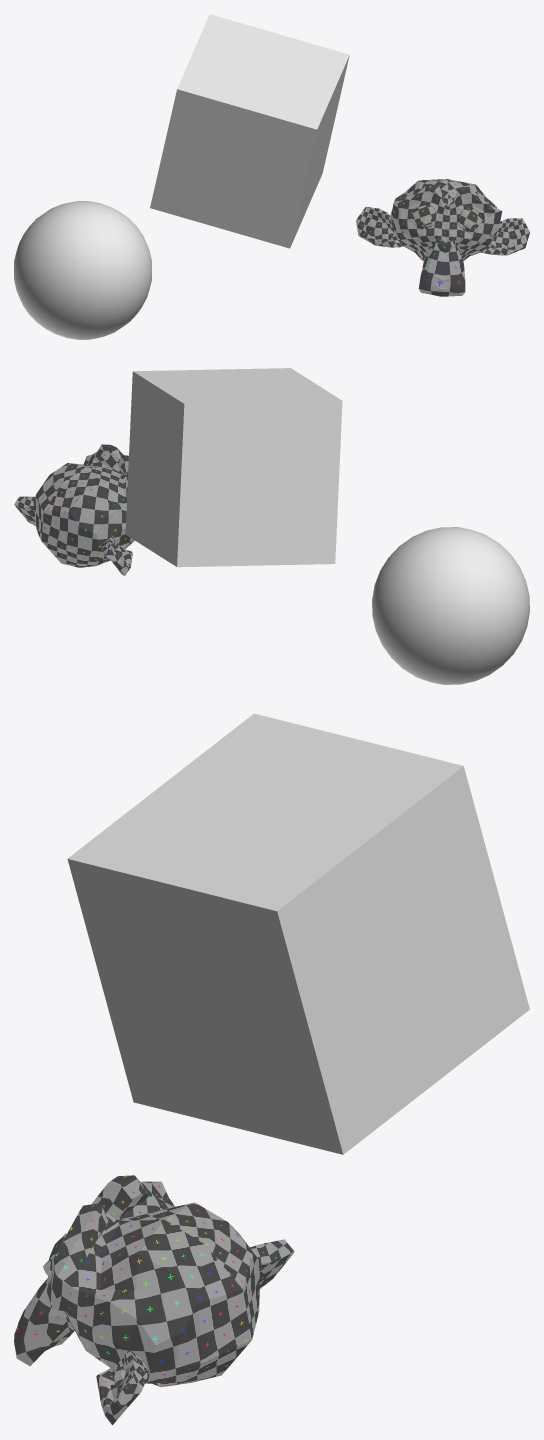
3 views of the same model, one above another, from view 1: azimuth 30°, elevation 25°; view 2: azimuth 150°, elevation 25°; view 3: azimuth 270°, elevation 25° (orthographic). The views are drawn at different scales.
Parts seen in each view (by area): view 1: MainBox, Sphere, Suzanne; view 2: MainBox, Sphere, Suzanne; view 3: MainBox, Suzanne.
Boxes of the visible parts, x1,y1,x2,y2 form: MainBox: (150,14,349,248); Sphere: (14,201,151,339); Suzanne: (356,179,529,296); MainBox: (125,368,342,567); Sphere: (372,527,529,684); Suzanne: (14,444,134,575); MainBox: (67,713,529,1154); Suzanne: (14,1175,294,1424).
Size of what is drawn, in the model's own units: 8.81 by 4.19 by 4.22.
Materials: 3 (1 with a texture image).
